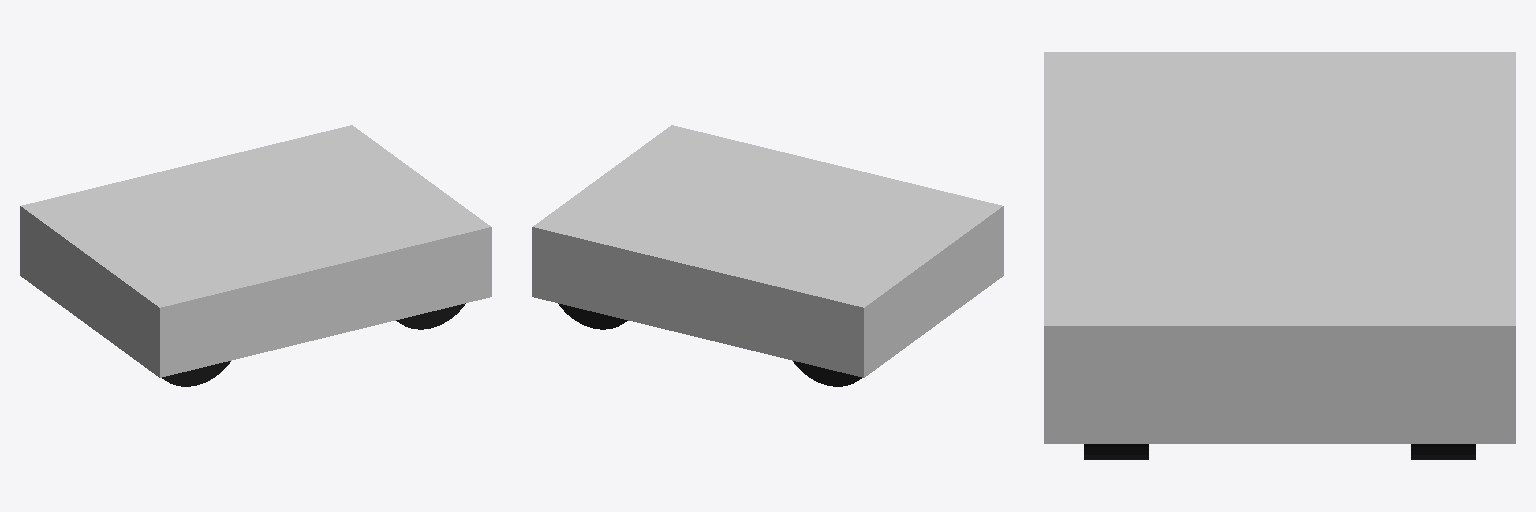
robot.urdf — fw_mini:
<?xml version="1.0"?>
<robot name="fw_mini">

  <link name="base_footprint"/>

  <link name="base_link">
    <visual>
      <geometry>
        <box size="0.495 0.36 0.10"/>
      </geometry>
      <origin xyz="0 0 0" rpy="0 0 0"/>
      <material name="white">
        <color rgba="0.85 0.85 0.85 1"/>
      </material>
    </visual>

    <collision>
      <geometry>
        <box size="0.495 0.36 0.10"/>
      </geometry>
      <origin xyz="0 0 0" rpy="0 0 0"/>
    </collision>

    <inertial>
      <origin xyz="0 0 0"/>
      <mass value="20.0"/>
      <inertia ixx="0.132" ixy="0" ixz="0" iyy="0.147" iyz="0" izz="0.0182"/>
    </inertial>
  </link>

  <joint name="base_link_to_base_footprint" type="fixed">
    <parent link="base_footprint"/>
    <child link="base_link"/>
    <origin xyz="0 0 0.10" rpy="0 0 0"/>
  </joint>

  <!-- =========================
       Front Left Steering Hinge
       ========================= -->
  <link name="left_steering_hinge">
    <visual>
      <geometry>
        <cylinder radius="0.02" length="0.03"/>
      </geometry>
      <origin xyz="0 0 0" rpy="1.5708 0 0"/>
      <material name="black">
        <color rgba="0.1 0.1 0.1 1"/>
      </material>
    </visual>

    <collision>
      <geometry>
        <cylinder radius="0.02" length="0.03"/>
      </geometry>
      <origin xyz="0 0 0" rpy="1.5708 0 0"/>
    </collision>

    <inertial>
      <origin xyz="0 0 0"/>
      <mass value="0.5"/>
      <inertia ixx="0.0001" ixy="0" ixz="0" iyy="0.0001" iyz="0" izz="0.0001"/>
    </inertial>
  </link>

  <joint name="left_steering_hinge_joint" type="revolute">
    <parent link="base_link"/>
    <child link="left_steering_hinge"/>
    <origin xyz="0.175 0.125 -0.02" rpy="0 0 0"/>
    <axis xyz="0 0 1"/>
    <limit lower="-1.57" upper="1.57" effort="20" velocity="10"/>
  </joint>

  <!-- Front Left Wheel -->
  <link name="left_front_wheel">
    <visual>
      <geometry>
        <cylinder radius="0.07" length="0.05"/>
      </geometry>
      <origin xyz="0 0 0" rpy="1.5708 0 0"/>
      <material name="dark_gray">
        <color rgba="0.15 0.15 0.15 1"/>
      </material>
    </visual>

    <collision>
      <geometry>
        <cylinder radius="0.07" length="0.05"/>
      </geometry>
      <origin xyz="0 0 0" rpy="1.5708 0 0"/>
    </collision>

    <inertial>
      <origin xyz="0 0 0"/>
      <mass value="2.0"/>
      <inertia ixx="0.01" ixy="0" ixz="0" iyy="0.01" iyz="0" izz="0.01"/>
    </inertial>
  </link>

  <joint name="left_front_wheel_joint" type="continuous">
    <parent link="left_steering_hinge"/>
    <child link="left_front_wheel"/>
    <origin xyz="0 0 0" rpy="0 0 0"/>
    <axis xyz="0 1 0"/>
    <limit effort="20" velocity="100"/>
  </joint>

  <!-- ==========================
       Front Right Steering Hinge
       ========================== -->
  <link name="right_steering_hinge">
    <visual>
      <geometry>
        <cylinder radius="0.02" length="0.03"/>
      </geometry>
      <origin xyz="0 0 0" rpy="1.5708 0 0"/>
      <material name="black">
        <color rgba="0.1 0.1 0.1 1"/>
      </material>
    </visual>

    <collision>
      <geometry>
        <cylinder radius="0.02" length="0.03"/>
      </geometry>
      <origin xyz="0 0 0" rpy="1.5708 0 0"/>
    </collision>

    <inertial>
      <origin xyz="0 0 0"/>
      <mass value="0.5"/>
      <inertia ixx="0.0001" ixy="0" ixz="0" iyy="0.0001" iyz="0" izz="0.0001"/>
    </inertial>
  </link>

  <joint name="right_steering_hinge_joint" type="revolute">
    <parent link="base_link"/>
    <child link="right_steering_hinge"/>
    <origin xyz="0.175 -0.125 -0.02" rpy="0 0 0"/>
    <axis xyz="0 0 1"/>
    <limit lower="-1.57" upper="1.57" effort="20" velocity="10"/>
  </joint>

  <!-- Front Right Wheel -->
  <link name="right_front_wheel">
    <visual>
      <geometry>
        <cylinder radius="0.07" length="0.05"/>
      </geometry>
      <origin xyz="0 0 0" rpy="1.5708 0 0"/>
      <material name="dark_gray">
        <color rgba="0.15 0.15 0.15 1"/>
      </material>
    </visual>

    <collision>
      <geometry>
        <cylinder radius="0.07" length="0.05"/>
      </geometry>
      <origin xyz="0 0 0" rpy="1.5708 0 0"/>
    </collision>

    <inertial>
      <origin xyz="0 0 0"/>
      <mass value="2.0"/>
      <inertia ixx="0.01" ixy="0" ixz="0" iyy="0.01" iyz="0" izz="0.01"/>
    </inertial>
  </link>

  <joint name="right_front_wheel_joint" type="continuous">
    <parent link="right_steering_hinge"/>
    <child link="right_front_wheel"/>
    <origin xyz="0 0 0" rpy="0 0 0"/>
    <axis xyz="0 1 0"/>
    <limit effort="20" velocity="100"/>
  </joint>

  <!-- =========================
       Rear Left Steering Hinge
       ========================= -->
  <link name="rear_left_steering_hinge">
    <visual>
      <geometry>
        <cylinder radius="0.02" length="0.03"/>
      </geometry>
      <origin xyz="0 0 0" rpy="1.5708 0 0"/>
      <material name="black">
        <color rgba="0.1 0.1 0.1 1"/>
      </material>
    </visual>

    <collision>
      <geometry>
        <cylinder radius="0.02" length="0.03"/>
      </geometry>
      <origin xyz="0 0 0" rpy="1.5708 0 0"/>
    </collision>

    <inertial>
      <origin xyz="0 0 0"/>
      <mass value="0.5"/>
      <inertia ixx="0.0001" ixy="0" ixz="0" iyy="0.0001" iyz="0" izz="0.0001"/>
    </inertial>
  </link>

  <joint name="rear_left_steering_hinge_joint" type="revolute">
    <parent link="base_link"/>
    <child link="rear_left_steering_hinge"/>
    <origin xyz="-0.175 0.125 -0.02" rpy="0 0 0"/>
    <axis xyz="0 0 1"/>
    <limit lower="-1.57" upper="1.57" effort="20" velocity="10"/>
  </joint>

  <!-- Rear Left Wheel -->
  <link name="left_rear_wheel">
    <visual>
      <geometry>
        <cylinder radius="0.07" length="0.05"/>
      </geometry>
      <origin xyz="0 0 0" rpy="1.5708 0 0"/>
      <material name="dark_gray">
        <color rgba="0.15 0.15 0.15 1"/>
      </material>
    </visual>

    <collision>
      <geometry>
        <cylinder radius="0.07" length="0.05"/>
      </geometry>
      <origin xyz="0 0 0" rpy="1.5708 0 0"/>
    </collision>

    <inertial>
      <origin xyz="0 0 0"/>
      <mass value="2.0"/>
      <inertia ixx="0.01" ixy="0" ixz="0" iyy="0.01" iyz="0" izz="0.01"/>
    </inertial>
  </link>

  <joint name="left_rear_wheel_joint" type="continuous">
    <parent link="rear_left_steering_hinge"/>
    <child link="left_rear_wheel"/>
    <origin xyz="0 0 0" rpy="0 0 0"/>
    <axis xyz="0 1 0"/>
    <limit effort="20" velocity="100"/>
  </joint>

  <!-- ==========================
       Rear Right Steering Hinge
       ========================== -->
  <link name="rear_right_steering_hinge">
    <visual>
      <geometry>
        <cylinder radius="0.02" length="0.03"/>
      </geometry>
      <origin xyz="0 0 0" rpy="1.5708 0 0"/>
      <material name="black">
        <color rgba="0.1 0.1 0.1 1"/>
      </material>
    </visual>

    <collision>
      <geometry>
        <cylinder radius="0.02" length="0.03"/>
      </geometry>
      <origin xyz="0 0 0" rpy="1.5708 0 0"/>
    </collision>

    <inertial>
      <origin xyz="0 0 0"/>
      <mass value="0.5"/>
      <inertia ixx="0.0001" ixy="0" ixz="0" iyy="0.0001" iyz="0" izz="0.0001"/>
    </inertial>
  </link>

  <joint name="rear_right_steering_hinge_joint" type="revolute">
    <parent link="base_link"/>
    <child link="rear_right_steering_hinge"/>
    <origin xyz="-0.175 -0.125 -0.02" rpy="0 0 0"/>
    <axis xyz="0 0 1"/>
    <limit lower="-1.57" upper="1.57" effort="20" velocity="10"/>
  </joint>

  <!-- Rear Right Wheel -->
  <link name="right_rear_wheel">
    <visual>
      <geometry>
        <cylinder radius="0.07" length="0.05"/>
      </geometry>
      <origin xyz="0 0 0" rpy="1.5708 0 0"/>
      <material name="dark_gray">
        <color rgba="0.15 0.15 0.15 1"/>
      </material>
    </visual>

    <collision>
      <geometry>
        <cylinder radius="0.07" length="0.05"/>
      </geometry>
      <origin xyz="0 0 0" rpy="1.5708 0 0"/>
    </collision>

    <inertial>
      <origin xyz="0 0 0"/>
      <mass value="2.0"/>
      <inertia ixx="0.01" ixy="0" ixz="0" iyy="0.01" iyz="0" izz="0.01"/>
    </inertial>
  </link>

  <joint name="right_rear_wheel_joint" type="continuous">
    <parent link="rear_right_steering_hinge"/>
    <child link="right_rear_wheel"/>
    <origin xyz="0 0 0" rpy="0 0 0"/>
    <axis xyz="0 1 0"/>
    <limit effort="20" velocity="100"/>
  </joint>

</robot>

--- Render facts (derived) ---
Views: 3 orthographic renders of the robot side by side, from view 1: azimuth 30°, elevation 25°; view 2: azimuth 150°, elevation 25°; view 3: azimuth 270°, elevation 25°.
Robot: fw_mini — 10 links, 9 joints (4 revolute, 4 continuous, 1 fixed); root link base_footprint; default pose: all joints at 0.
Visible links, largest first — view 1: base_link, right_front_wheel, right_rear_wheel; view 2: base_link, left_front_wheel, left_rear_wheel; view 3: base_link, left_front_wheel, right_front_wheel.
Boxes of the visible links, bbox=[...] form: base_link: bbox=[20, 125, 491, 377]; right_front_wheel: bbox=[396, 303, 465, 329]; right_rear_wheel: bbox=[162, 361, 230, 386]; base_link: bbox=[532, 125, 1003, 377]; left_front_wheel: bbox=[558, 303, 627, 329]; left_rear_wheel: bbox=[793, 361, 861, 386]; base_link: bbox=[1044, 52, 1515, 443]; left_front_wheel: bbox=[1411, 444, 1475, 459]; right_front_wheel: bbox=[1084, 444, 1148, 459].
Bounding box of the posed robot: 0.495 × 0.36 × 0.14 m (x, y, z).
Geometry: primitives only (box / cylinder / sphere), no mesh files.
